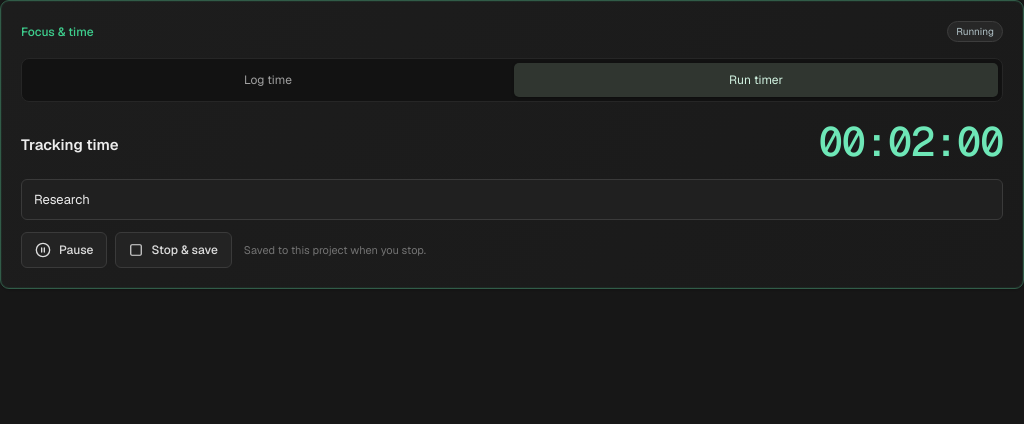
it: keeps a live session while switching modes and saves on stop
The width and height of the screenshot is (1024, 424).
What coordinates should you click on to do the following:
click the button "Log time"
I would click on:
 (268, 80)
Its box is left=26, top=63, right=510, bottom=97.
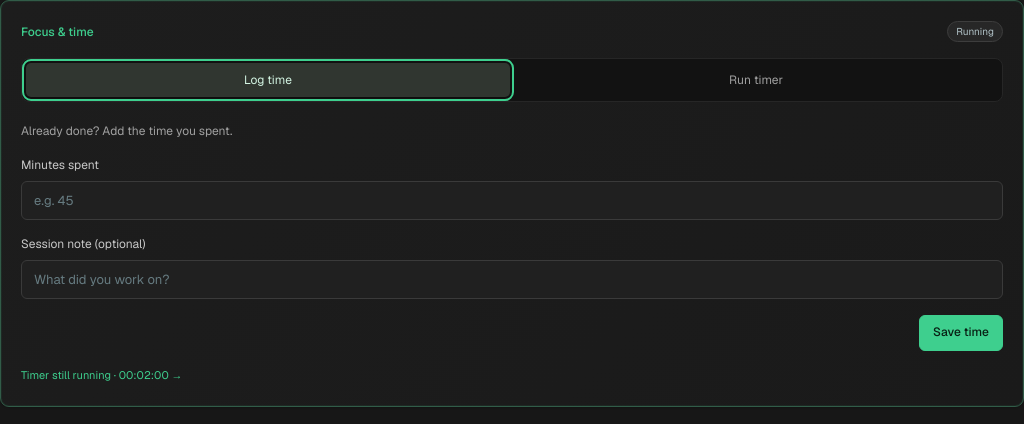
Check: the button "Timer still running · 00:02:00 →" is shown, box left=21, top=367, right=182, bottom=384
What coordinates should you click on to do the following:
click the button "Run timer"
I would click on:
 (756, 80)
Its box is left=514, top=63, right=998, bottom=97.
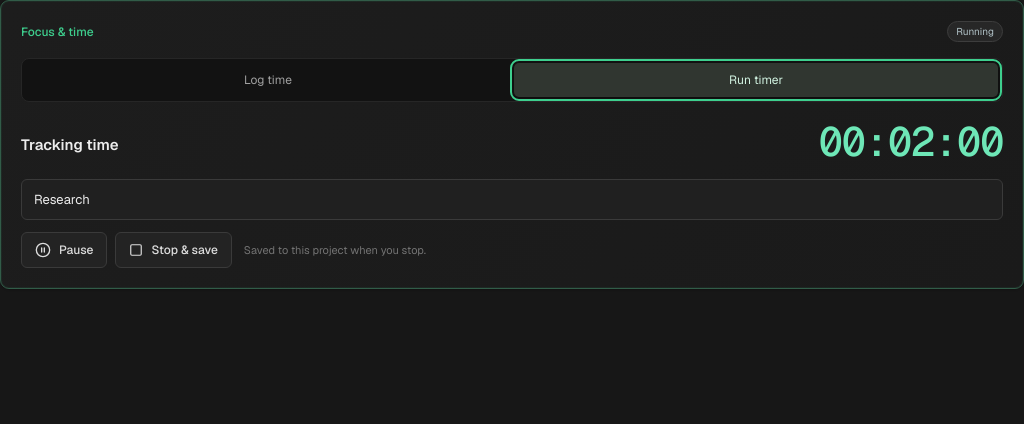
What coordinates should you click on to do the following:
click the button "Stop & save"
I would click on:
 (174, 250)
Its box is left=116, top=232, right=232, bottom=268.
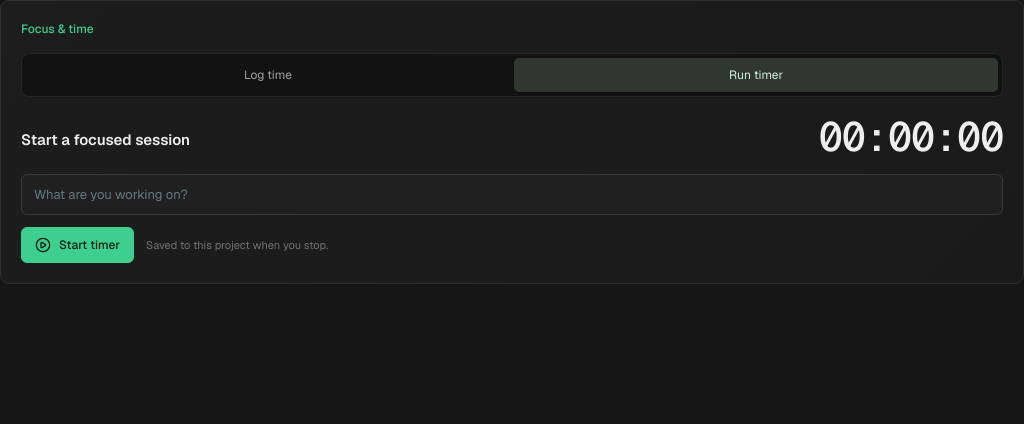
Check: the button "Start timer" is shown, box left=21, top=228, right=134, bottom=264
